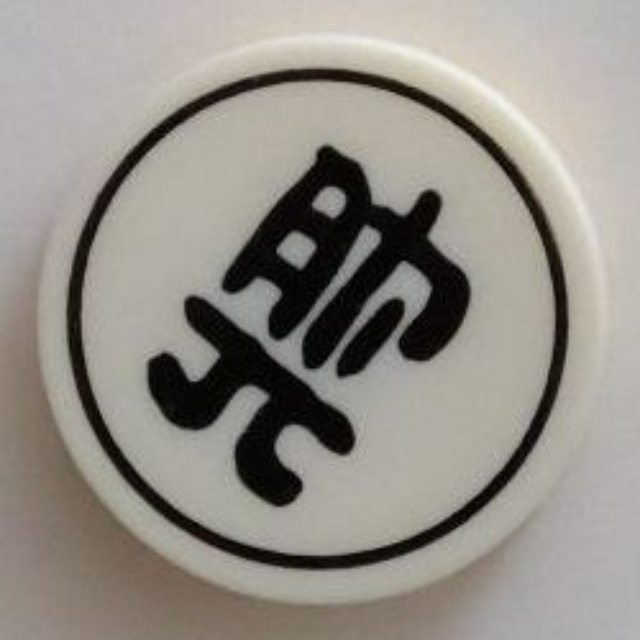black_tuong: (26, 32, 620, 608)
